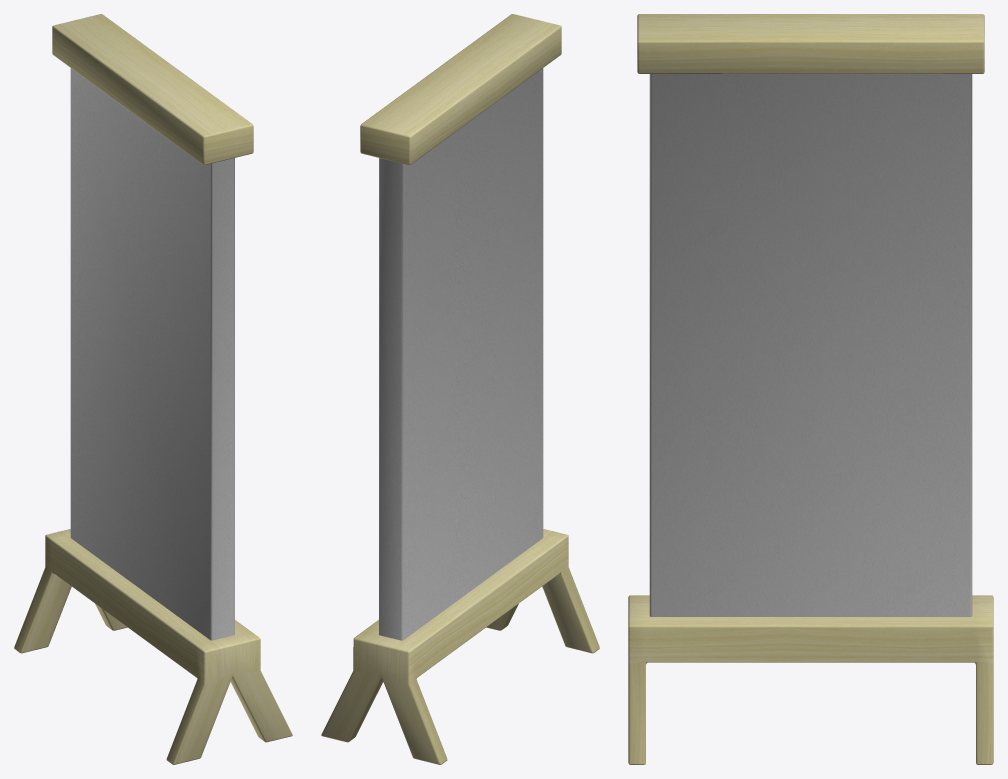
The model's file is Painting Stand Meadow.fbx.
3 views of the same model, side by side, from view 1: azimuth 30°, elevation 25°; view 2: azimuth 150°, elevation 25°; view 3: azimuth 270°, elevation 25° (orthographic). The views are drawn at different scales.
Visible parts, largest first — view 1: Painting Stand Weide; view 2: Painting Stand Weide; view 3: Painting Stand Weide.
Part boxes in pixels (<box>): Painting Stand Weide: <box>14,14,292,764</box>; Painting Stand Weide: <box>321,14,599,764</box>; Painting Stand Weide: <box>628,14,993,764</box>.
Size of the model in its own units: 76.4 by 376 by 177.
